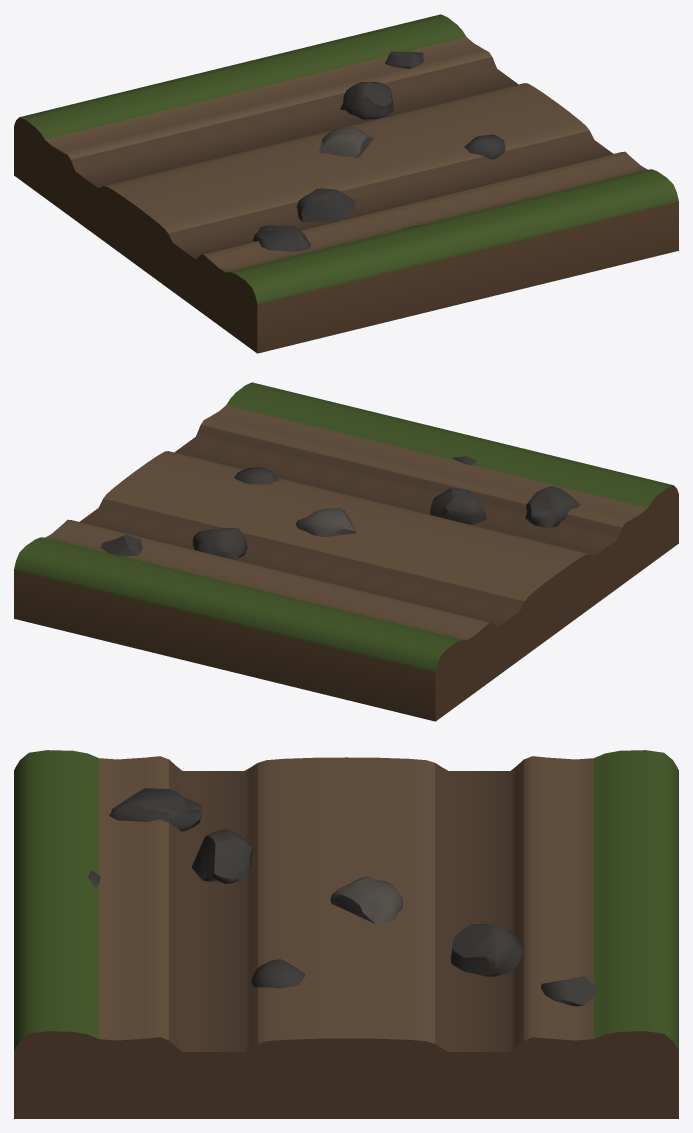
3 views of the same model, one above another, from view 1: azimuth 30°, elevation 25°; view 2: azimuth 150°, elevation 25°; view 3: azimuth 270°, elevation 25° (orthographic). The views are drawn at different scales.
Visible parts, largest first — view 1: rk1o; view 2: rk1o; view 3: rk1o.
Boxes of the visible parts, left/top/right/bottom form: rk1o: left=14, top=14, right=678, bottom=353; rk1o: left=14, top=382, right=678, bottom=721; rk1o: left=14, top=750, right=678, bottom=1118.
Size of the model in its own units: 9 by 1.5 by 9.
